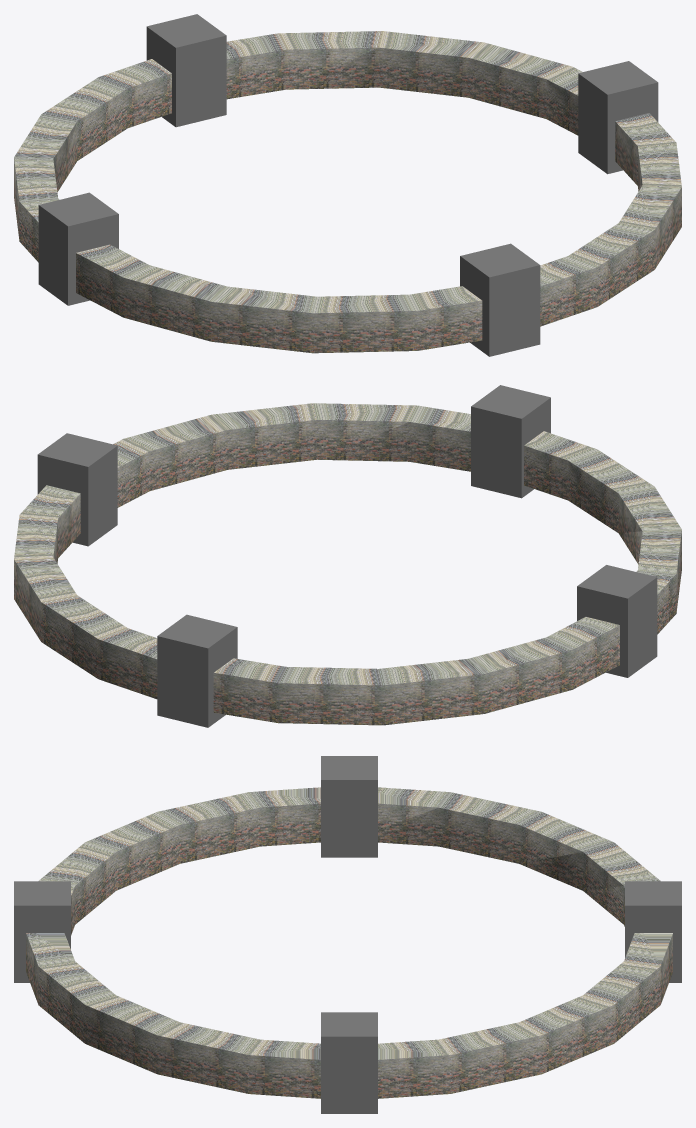
File: CastleWallExterior.obj
3 views of the same model, one above another, from view 1: azimuth 30°, elevation 25°; view 2: azimuth 150°, elevation 25°; view 3: azimuth 270°, elevation 25° (orthographic). The views are drawn at different scales.
Parts seen in each view (by area): view 1: CastleWallExterior; view 2: CastleWallExterior; view 3: CastleWallExterior.
Part boxes in pixels (x1,y1,x2,y2): CastleWallExterior: [14, 14, 681, 356]; CastleWallExterior: [14, 385, 681, 727]; CastleWallExterior: [14, 756, 681, 1113].
Bounding box in the file's own units: 479 × 61.66 × 482.
Materials: 2 (1 with a texture image).
